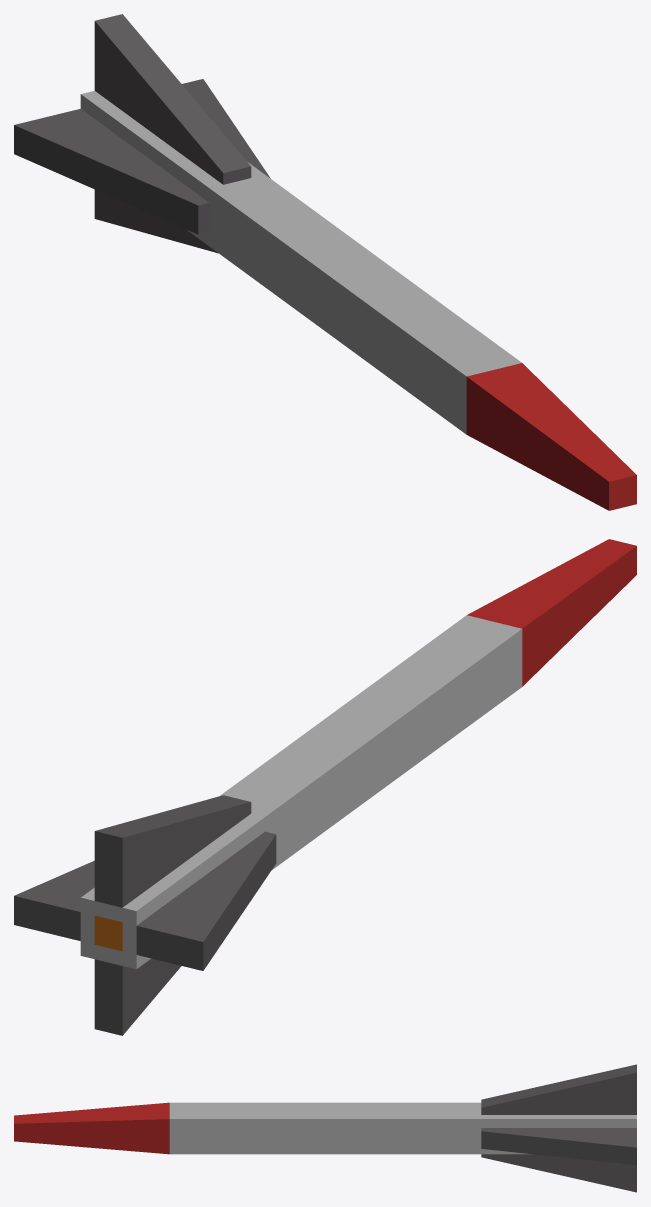
File: Missile.obj
3 renders of one model, top to bottom at view 1: azimuth 30°, elevation 25°; view 2: azimuth 150°, elevation 25°; view 3: azimuth 270°, elevation 25°, orthographic. The views are drawn at different scales.
Parts seen in each view (by area): view 1: Cube; view 2: Cube; view 3: Cube.
Boxes of the visible parts, bbox=[...] form: Cube: bbox=[14, 14, 636, 510]; Cube: bbox=[14, 539, 636, 1035]; Cube: bbox=[14, 1064, 636, 1192].
Size of the model in its own units: 0.85 by 0.85 by 4.
1 material, 1 textured.
